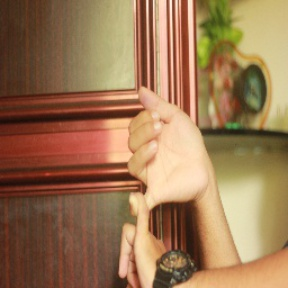S: (102, 83, 210, 288)
